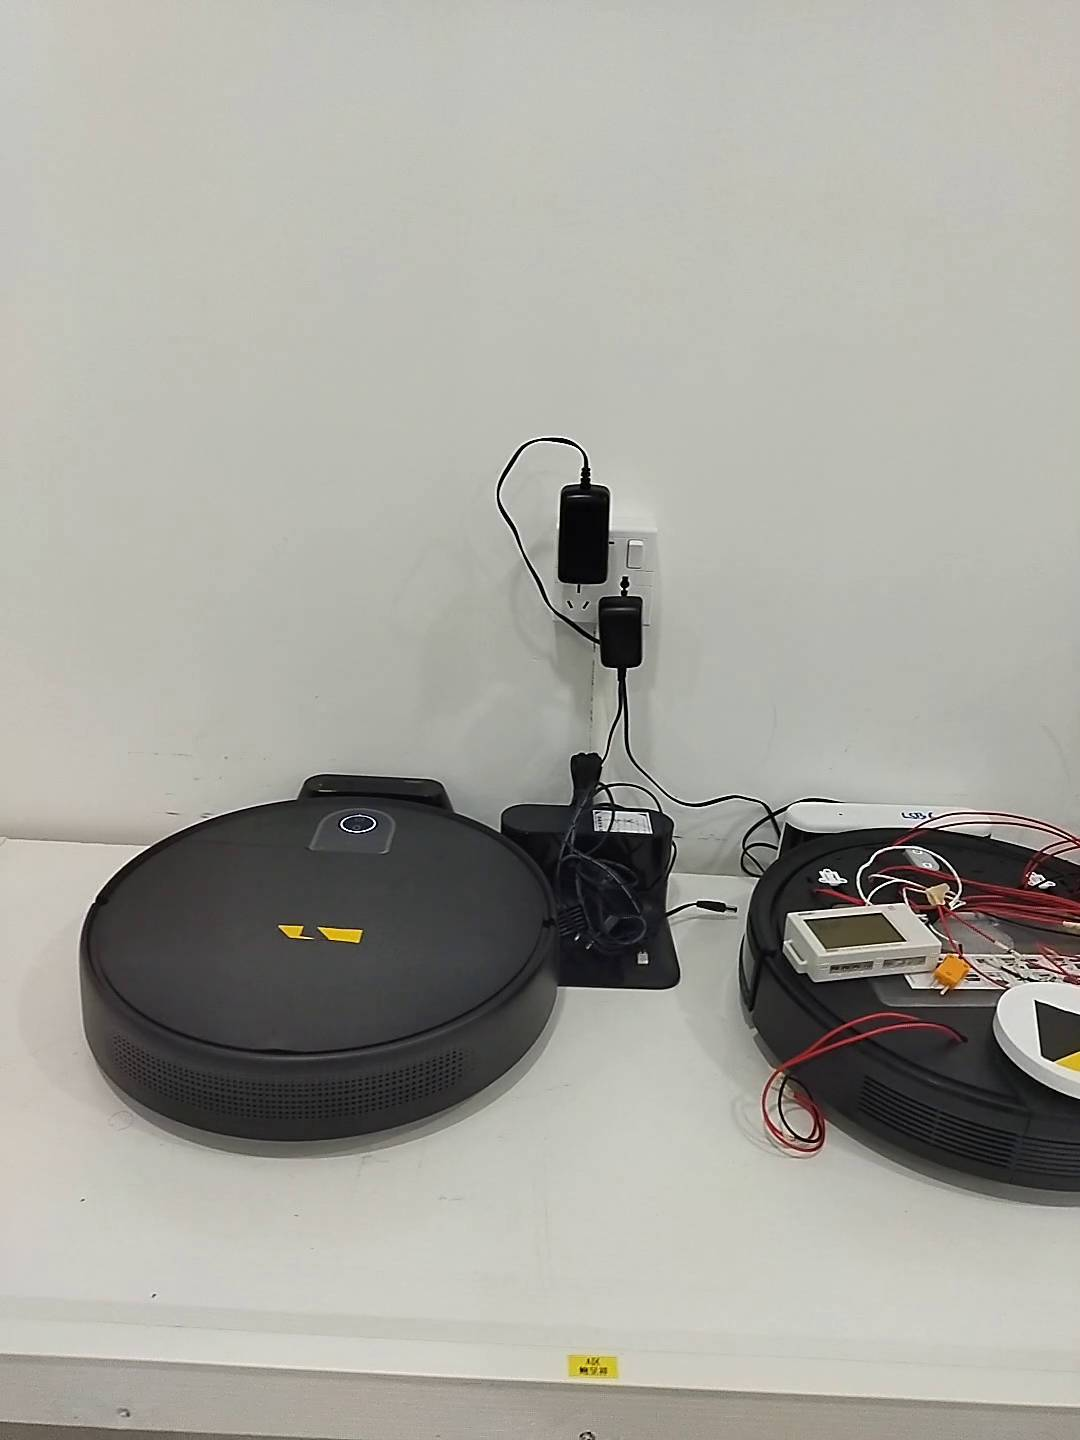recharge seat: (503, 803, 680, 990)
